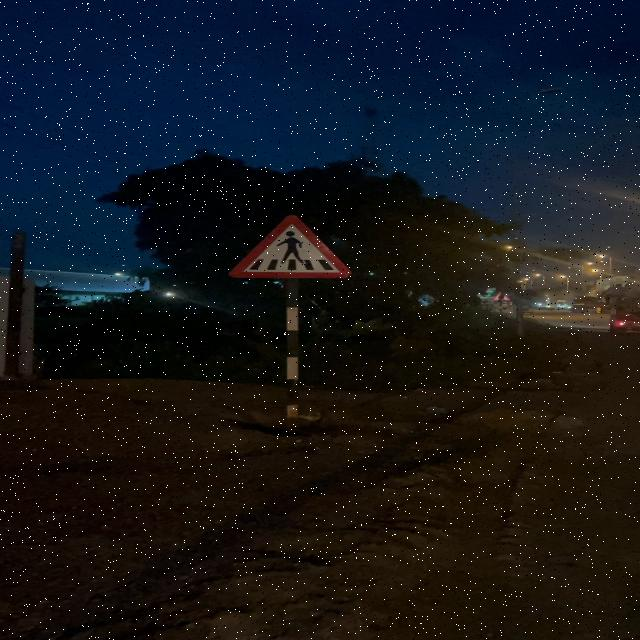Pedestrain_crossing: (218, 211, 369, 284)
